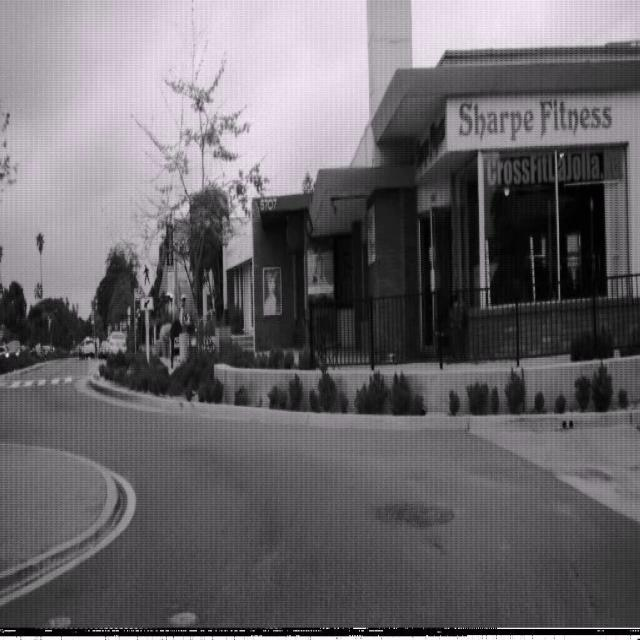pedestrianCrossing: (135, 254, 157, 298)
